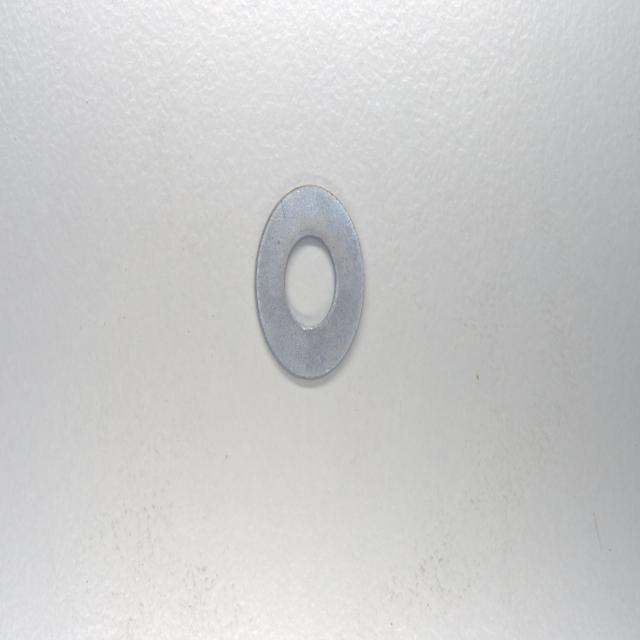washer: (255, 180, 366, 380)
